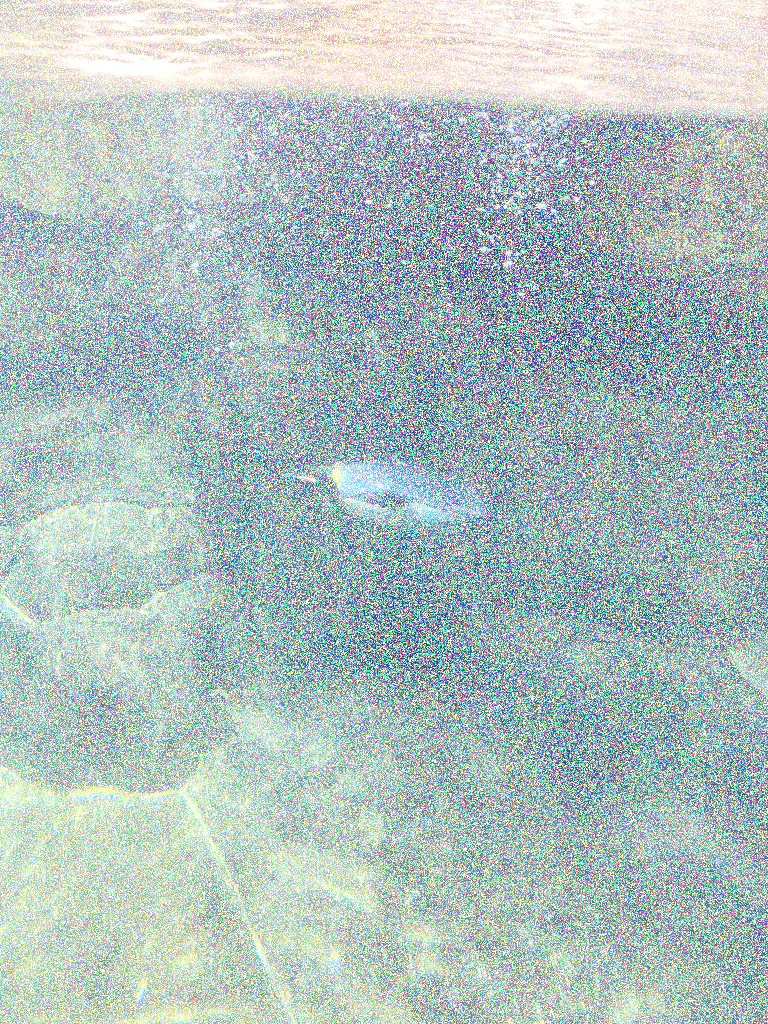penguin: (278, 460, 502, 528)
